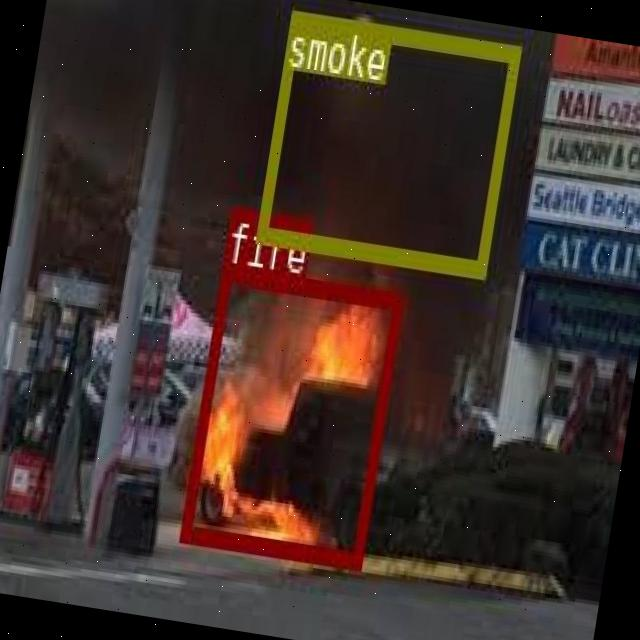fire: (179, 264, 402, 567)
smoke: (254, 8, 518, 276)
